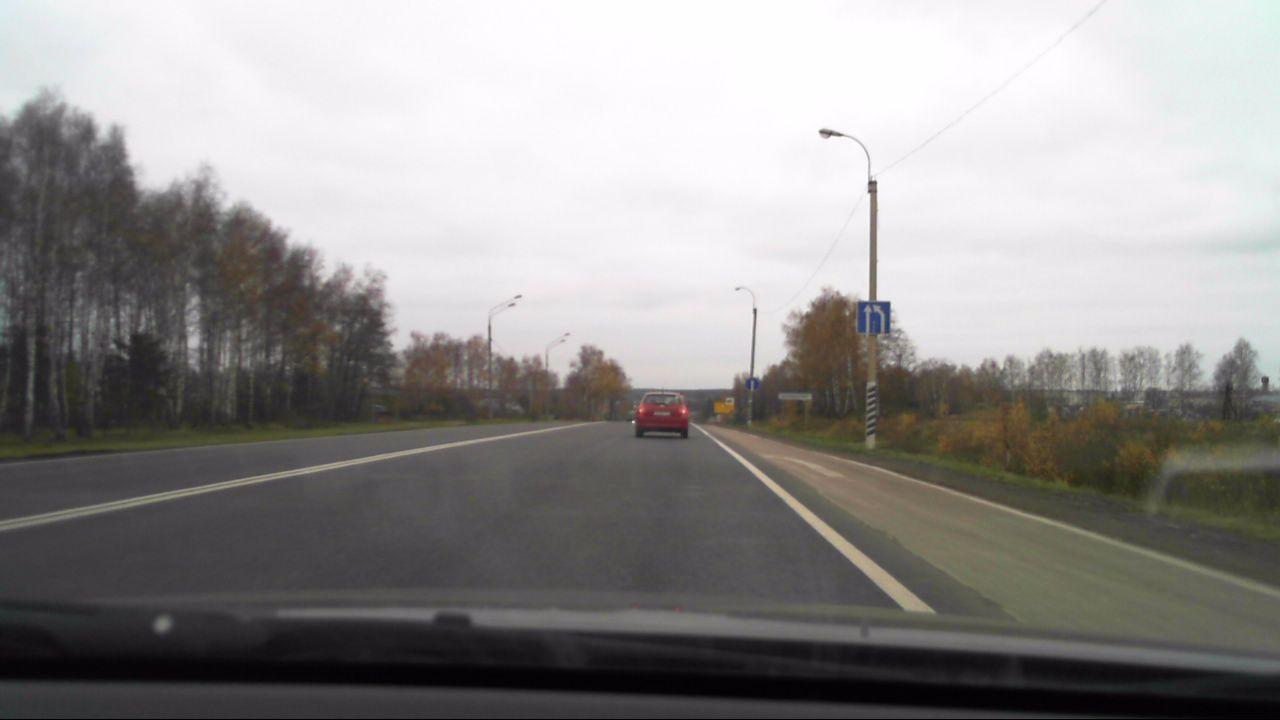4_1_1: (745, 376, 759, 393)
5_15_5: (855, 300, 891, 338)
